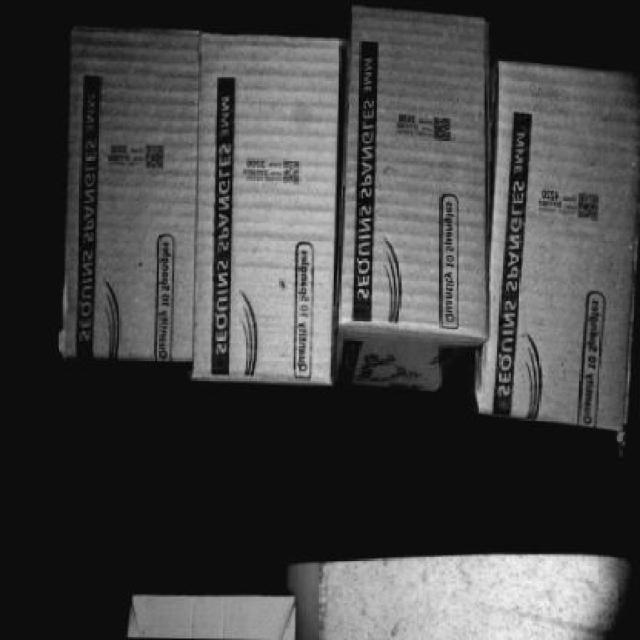cardboxes: (483, 82, 640, 426), (192, 33, 336, 389), (57, 34, 194, 368), (345, 19, 483, 330)
